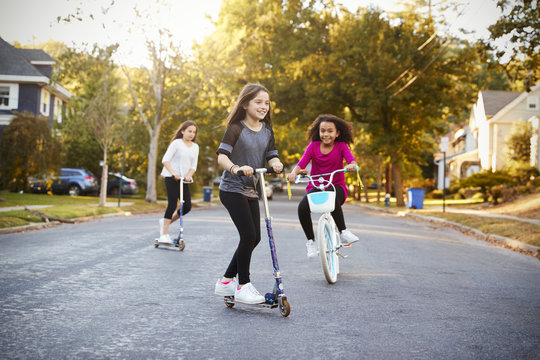Person: (213, 83, 299, 322), (292, 112, 363, 257), (154, 116, 202, 252)
